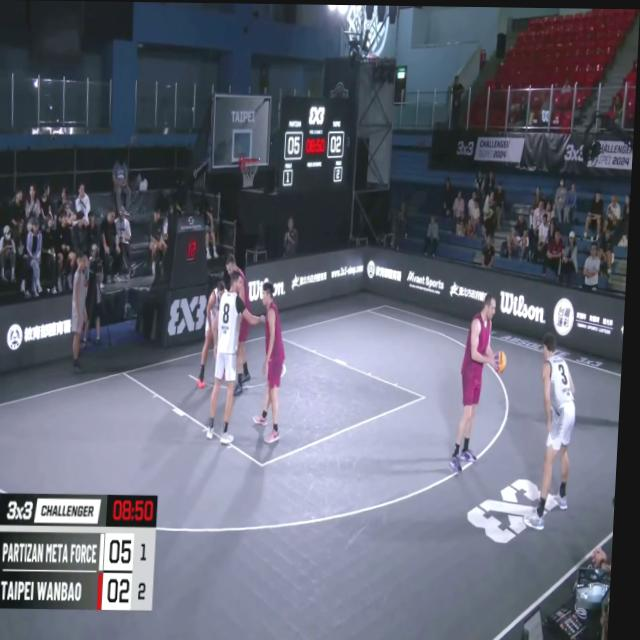ball: (498, 348, 511, 373)
hoop: (239, 155, 263, 188)
player: (209, 269, 270, 444), (531, 334, 583, 526), (457, 296, 506, 474), (255, 278, 291, 453), (218, 249, 259, 395), (201, 280, 229, 388)
